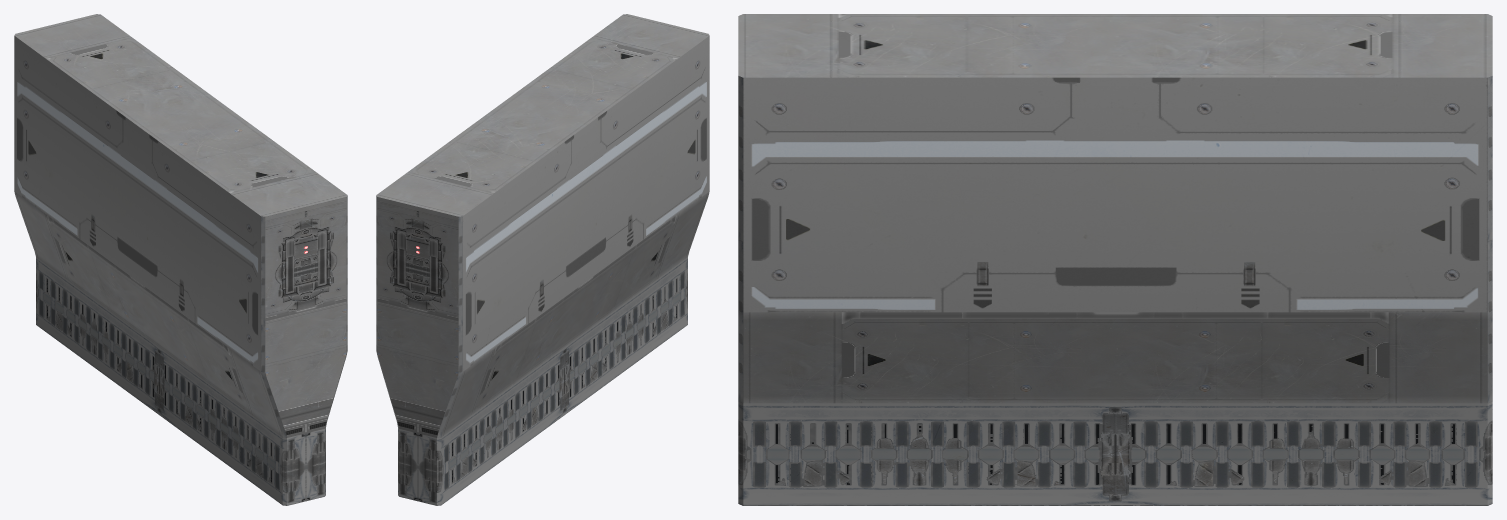
The model's file is SM_Wallup01.fbx.
3 views of the same model, side by side, from view 1: azimuth 30°, elevation 25°; view 2: azimuth 150°, elevation 25°; view 3: azimuth 270°, elevation 25° (orthographic). The views are drawn at different scales.
Visible parts, largest first — view 1: SM_Wallup01_LOD0; view 2: SM_Wallup01_LOD0; view 3: SM_Wallup01_LOD0.
Boxes of the visible parts, x1,y1,x2,y2 form: SM_Wallup01_LOD0: (14,14,347,505); SM_Wallup01_LOD0: (376,14,709,505); SM_Wallup01_LOD0: (738,14,1492,505).
Size of the model in its own units: 80 by 400 by 260.
Materials: 3 (3 with a texture image).
